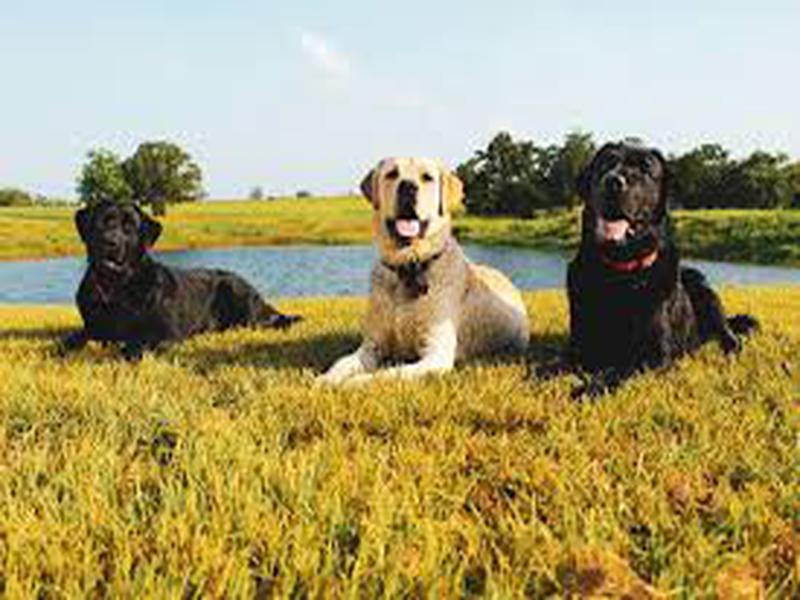dog_down: (536, 141, 760, 403), (316, 152, 531, 394), (47, 201, 304, 365)
